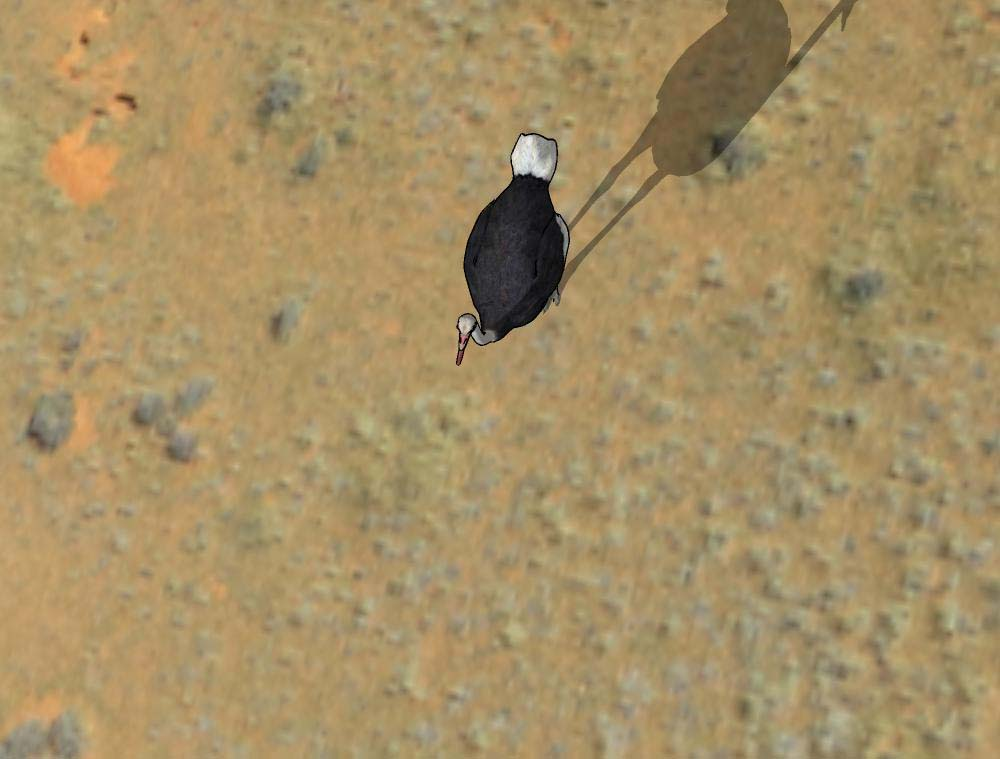ostrich: (433, 129, 585, 374)
